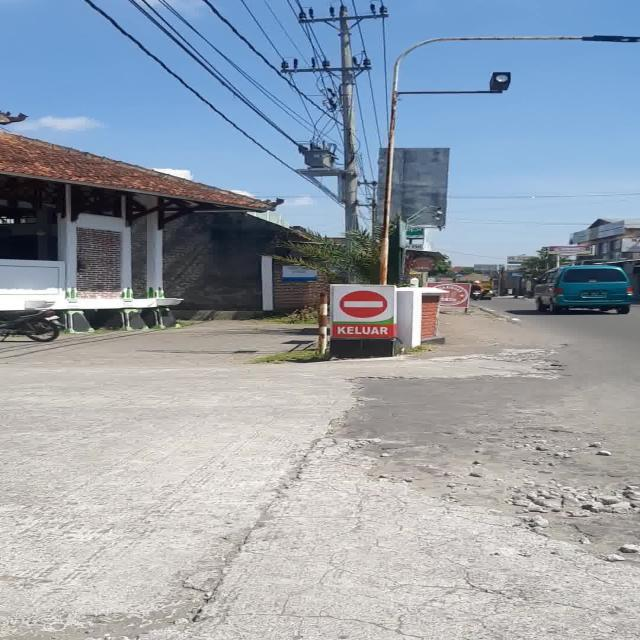Dilarang Masuk: (340, 290, 388, 318)
